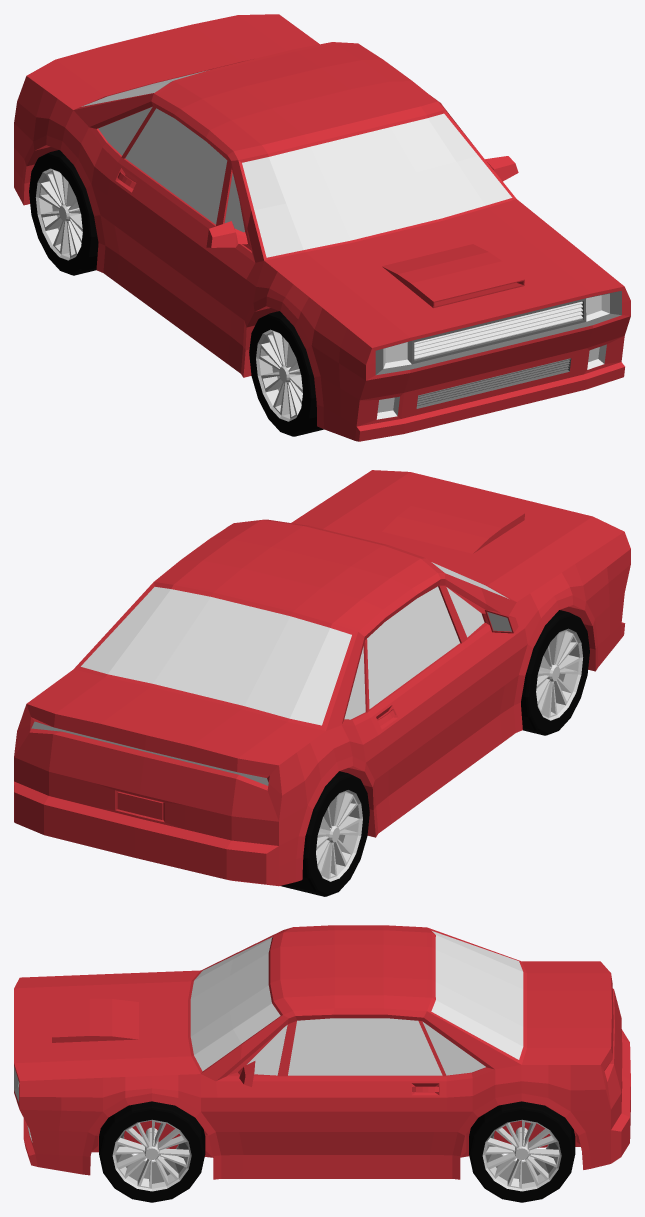
The model's file is low_poly_car_blend.fbx.
3 renders of one model, top to bottom at view 1: azimuth 30°, elevation 25°; view 2: azimuth 150°, elevation 25°; view 3: azimuth 270°, elevation 25°, orthographic. The views are drawn at different scales.
Visible parts, largest first — view 1: car, rear_left_wheel, front_right_wheel, upper_grill, lower_grill; view 2: car, rear_left_wheel, front_right_wheel; view 3: car, rear_right_wheel, front_left_wheel.
Part boxes in pixels (x1,y1,x2,y2): car: (14,14,630,441); rear_left_wheel: (29,150,98,275); front_right_wheel: (249,311,323,436); upper_grill: (414,301,583,359); lower_grill: (417,358,570,405); car: (14,470,630,886); rear_left_wheel: (281,771,369,896); front_right_wheel: (521,610,589,735); car: (14,925,630,1179); rear_right_wheel: (469,1101,575,1202); front_left_wheel: (99,1101,205,1202).
Size of the model in its own units: 430 by 295 by 890.
